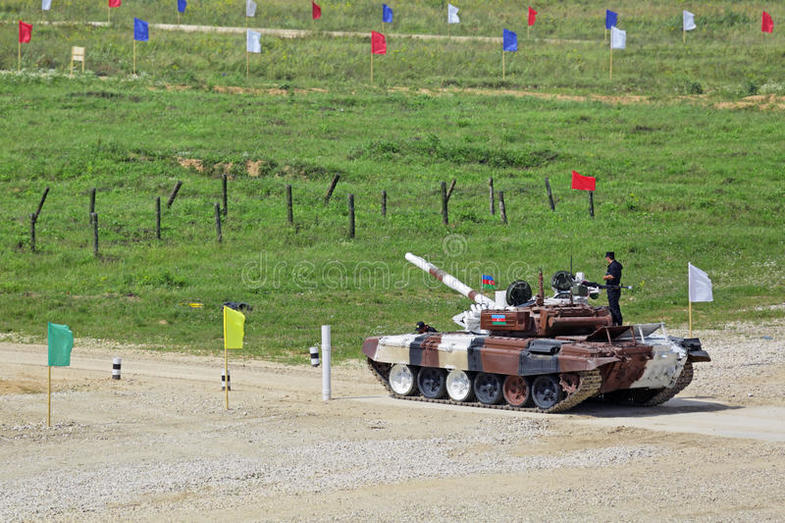t72: (373, 244, 694, 403)
